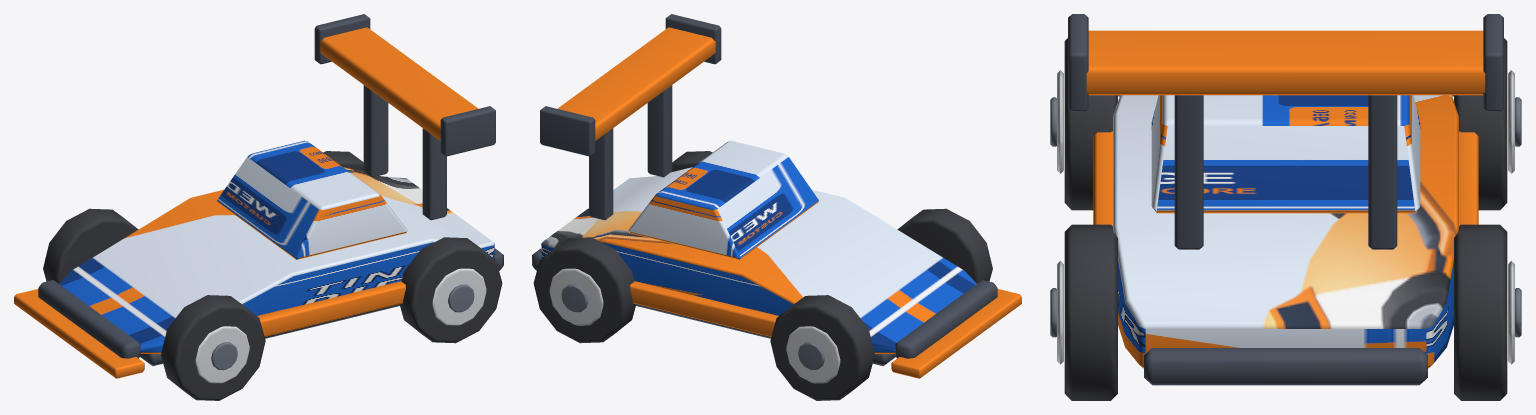
The picture shows the model from 3 angles, left to right: view 1: azimuth 30°, elevation 25°; view 2: azimuth 150°, elevation 25°; view 3: azimuth 270°, elevation 25°; orthographic projection. The views are drawn at different scales.
Visible parts, largest first — view 1: TC-02_connected_shell, TC-02_cabin, rear airfoil, Tire, Tire.002, Tire.001, custom side guard, custom chin, front bumper, wing endplate, wing support.001, wing support (+7 smaller); view 2: TC-02_connected_shell, TC-02_cabin, rear airfoil, Tire.001, Tire.003, Tire, custom side guard.001, custom chin, front bumper, wing endplate.001, wing support, wing support.001 (+7 smaller); view 3: TC-02_connected_shell, rear airfoil, TC-02_cabin, rear bumper, Tire.002, Tire.003, wing support, wing support.001, Tire, Tire.001, wing endplate, wing endplate.001 (+6 smaller).
Boxes of the visible parts, bbox=[...] form: TC-02_connected_shell: bbox=[59, 167, 494, 353]; TC-02_cabin: bbox=[217, 140, 407, 259]; rear airfoil: bbox=[320, 27, 478, 140]; Tire: bbox=[161, 295, 265, 400]; Tire.002: bbox=[399, 237, 502, 343]; Tire.001: bbox=[43, 208, 138, 283]; custom side guard: bbox=[257, 281, 405, 336]; custom chin: bbox=[14, 289, 144, 378]; front bumper: bbox=[38, 280, 140, 358]; wing endplate: bbox=[440, 106, 495, 156]; wing support.001: bbox=[363, 85, 388, 177]; wing support: bbox=[422, 128, 446, 220]; TC-02_connected_shell: bbox=[541, 167, 976, 353]; TC-02_cabin: bbox=[628, 140, 818, 259]; rear airfoil: bbox=[557, 27, 715, 140]; Tire.001: bbox=[770, 295, 874, 400]; Tire.003: bbox=[533, 237, 636, 343]; Tire: bbox=[897, 208, 992, 283]; custom side guard.001: bbox=[630, 281, 778, 336]; custom chin: bbox=[891, 289, 1021, 378]; front bumper: bbox=[895, 280, 997, 358]; wing endplate.001: bbox=[540, 106, 595, 156]; wing support: bbox=[647, 85, 672, 177]; wing support.001: bbox=[589, 128, 613, 220]; TC-02_connected_shell: bbox=[1113, 95, 1458, 368]; rear airfoil: bbox=[1086, 30, 1485, 95]; TC-02_cabin: bbox=[1151, 95, 1420, 213]; rear bumper: bbox=[1144, 348, 1427, 385]; Tire.002: bbox=[1064, 224, 1117, 400]; Tire.003: bbox=[1454, 224, 1507, 400]; wing support: bbox=[1174, 95, 1203, 249]; wing support.001: bbox=[1368, 95, 1397, 249]; Tire: bbox=[1064, 38, 1117, 210]; Tire.001: bbox=[1454, 38, 1507, 210]; wing endplate: bbox=[1068, 14, 1088, 111]; wing endplate.001: bbox=[1483, 14, 1503, 111].
Size of the model in its own units: 369 by 199 by 229.
